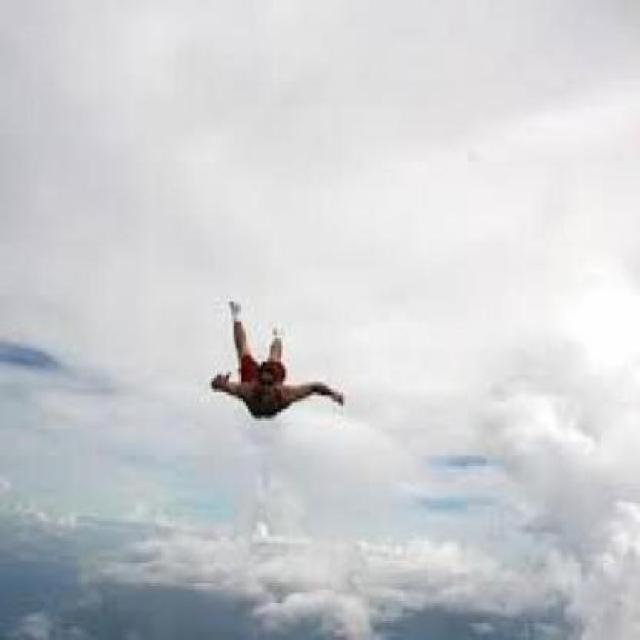fall: (207, 290, 350, 424)
